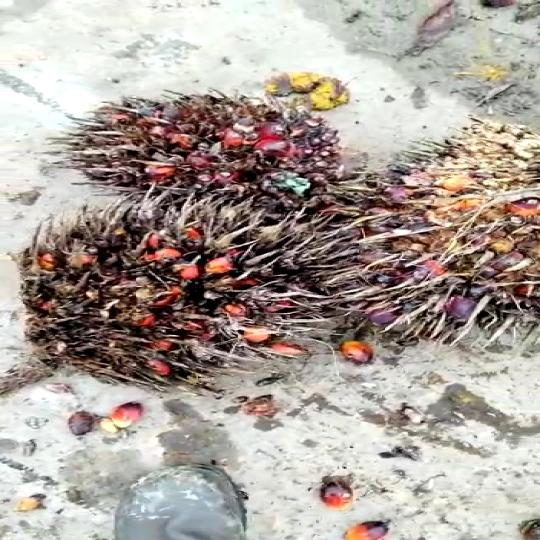terlalu masak: (15, 188, 347, 396), (54, 87, 343, 204)
